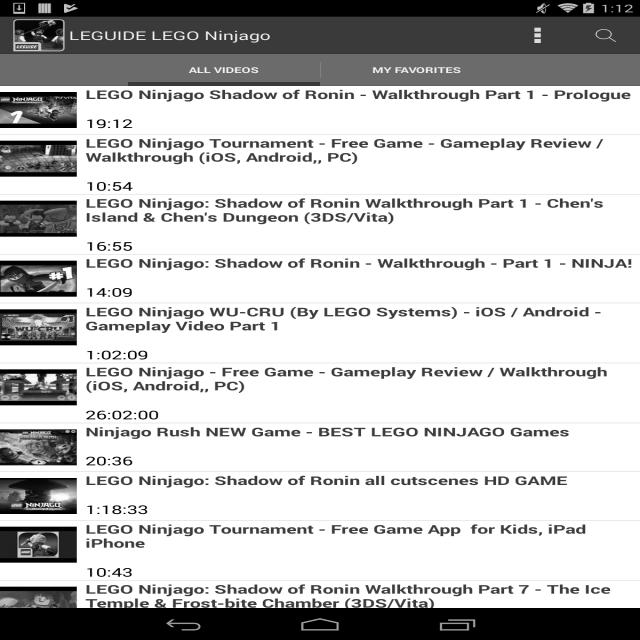ImageView: (0, 86, 77, 134), (0, 134, 77, 182), (0, 304, 77, 352), (0, 364, 77, 412), (0, 424, 77, 472), (0, 472, 77, 520), (0, 520, 77, 568), (0, 580, 77, 628), (0, 195, 77, 242), (0, 255, 77, 302), (14, 19, 64, 52)
TextView: (85, 303, 640, 334), (85, 363, 640, 394), (85, 135, 640, 165), (85, 195, 640, 225), (85, 521, 640, 551), (85, 581, 640, 611), (85, 255, 632, 271), (85, 86, 631, 102), (85, 423, 570, 440), (85, 472, 568, 488), (69, 27, 270, 43), (571, 16, 640, 54), (503, 17, 572, 54), (85, 102, 241, 115), (85, 165, 241, 178), (85, 225, 241, 238), (85, 271, 241, 284), (85, 488, 241, 501), (85, 551, 241, 564), (85, 334, 241, 346), (85, 394, 241, 406), (85, 440, 241, 452), (85, 406, 159, 423), (372, 64, 462, 76), (85, 346, 148, 363), (85, 501, 148, 517), (188, 64, 258, 76), (85, 452, 133, 469), (85, 115, 133, 131), (85, 178, 133, 194), (85, 238, 133, 254), (85, 284, 133, 300), (85, 564, 133, 580)
